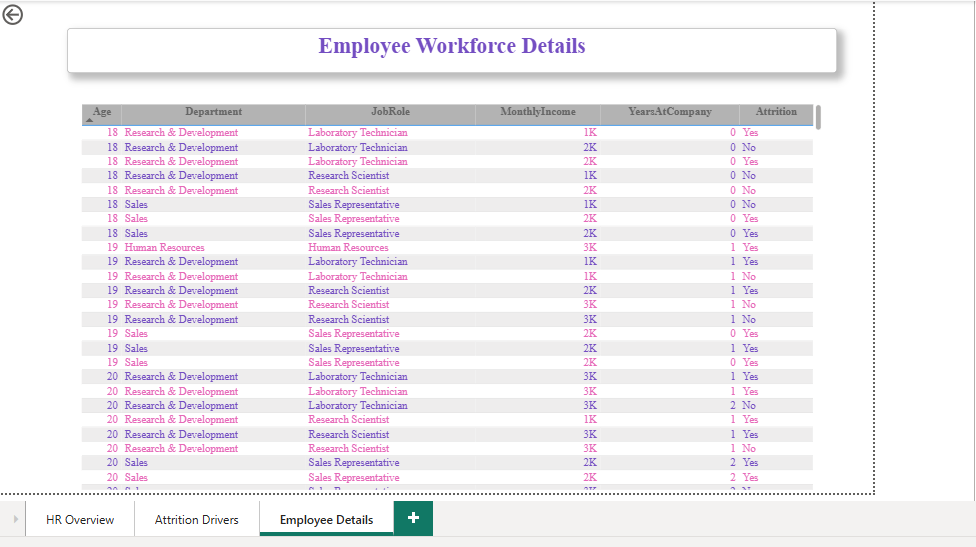

The page's visual inventory and layout, read from the dashboard file:
{"tool":"powerbi","page":{"name":"Employee Details","canvas":[1280,720],"ordinal":2},"visuals":[{"type":"tableEx","fields":{"Values":["HR.Age","HR.Department","HR.JobRole","HR.MonthlyIncome","HR.YearsAtCompany","HR.Attrition"]},"box":[115.6,146.3,1093.2,573.7],"z":0},{"type":"actionButton","box":[0,0,100,40],"z":1000},{"type":"textbox","box":[99.5,39.5,1126.8,65.9],"z":2000}]}

Visuals, with their boxes on the page's 1280x720 design canvas (x1, y1, x2, y2). These are canvas units, not pixel positions in the 976x547 screenshot, which may show the page scaled, cropped or inside an application window:
tableEx - HR.Age x HR.Department: [left=116, top=146, right=1209, bottom=720]
actionButton: [left=0, top=0, right=100, bottom=40]
textbox: [left=100, top=40, right=1226, bottom=105]
